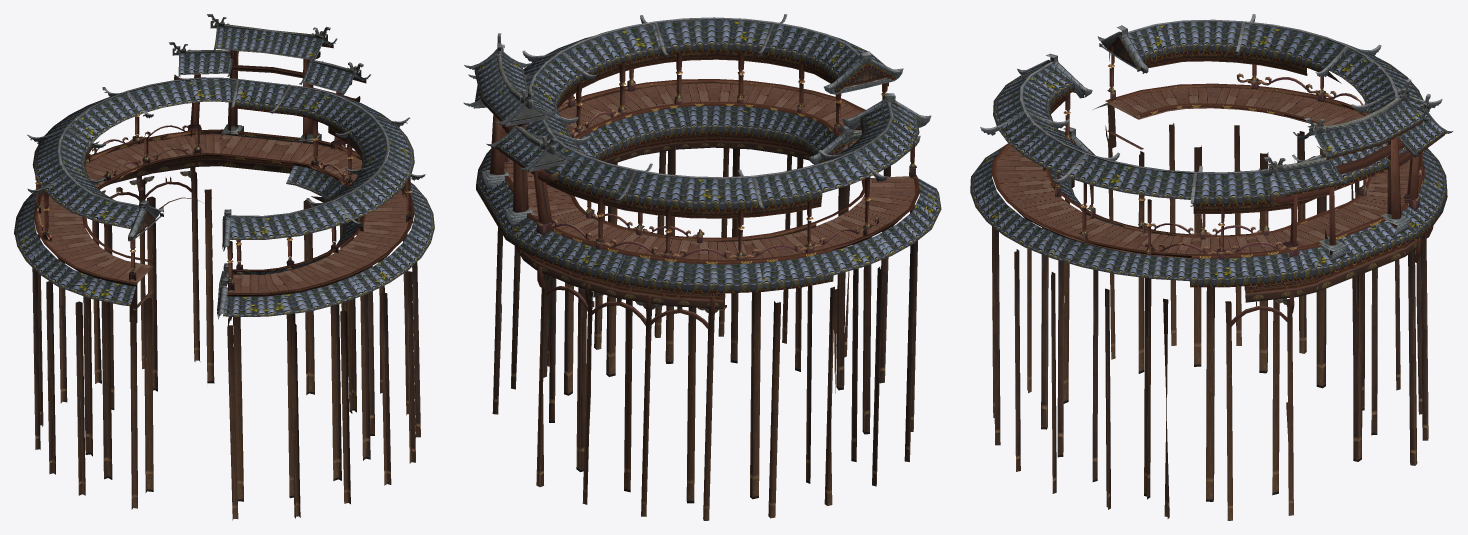
File: S2_Build_XSC055_H1.FBX
The picture shows the model from 3 angles, left to right: view 1: azimuth 30°, elevation 25°; view 2: azimuth 150°, elevation 25°; view 3: azimuth 270°, elevation 25°; orthographic projection. The views are drawn at different scales.
Parts seen in each view (by area): view 1: S2_Build_XSC055_H1; view 2: S2_Build_XSC055_H1; view 3: S2_Build_XSC055_H1.
Part boxes in pixels (x1,y1,x2,y2): S2_Build_XSC055_H1: (14, 14, 434, 520); S2_Build_XSC055_H1: (463, 14, 941, 520); S2_Build_XSC055_H1: (970, 14, 1452, 520).
Size of the model in its own units: 4574 by 4227 by 4663.
